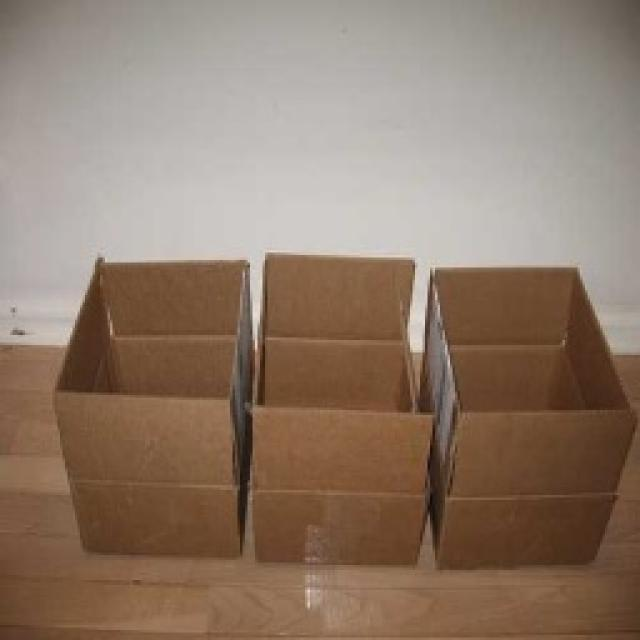box: (428, 232, 640, 564), (258, 243, 441, 560), (74, 260, 248, 558)
